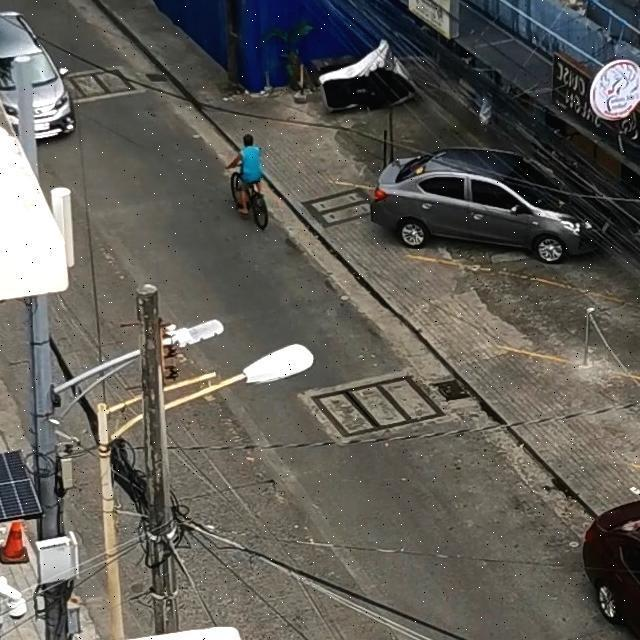Bike: (197, 109, 306, 252)
